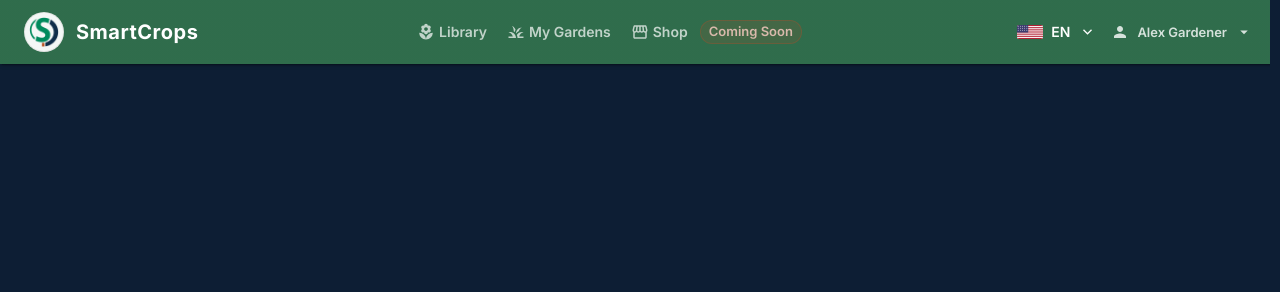
Test case: Navbar v2 (SMA-152 / SMA-150) › offers the light-mode destination when the stored mode is dark
Click the button "Alex Gardener" at (1182, 32), box [1108,17,1256,47]
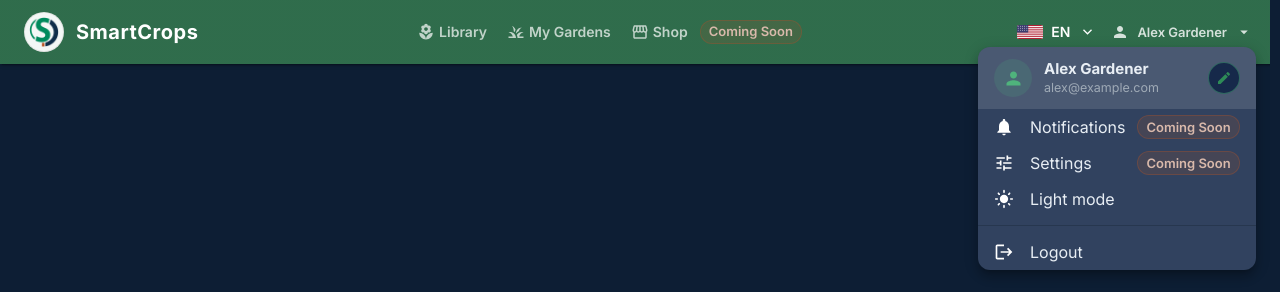
Expected: the menu item "Light mode" is shown, [994,189,1115,209]
